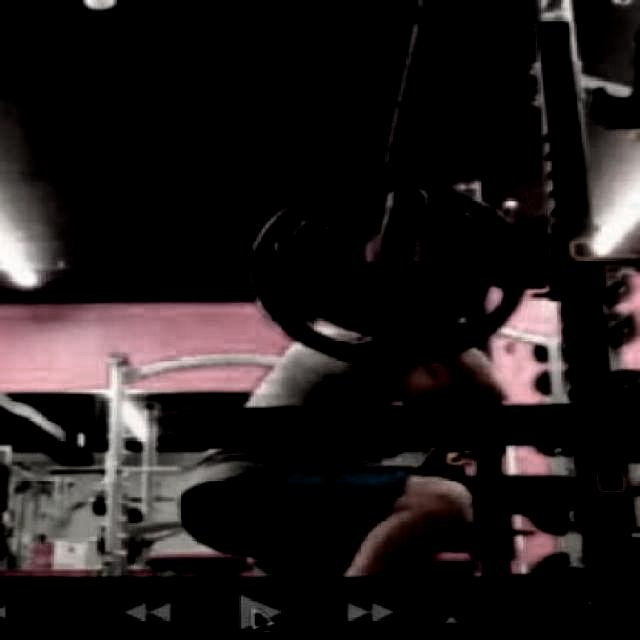barbell: (233, 166, 542, 372)
